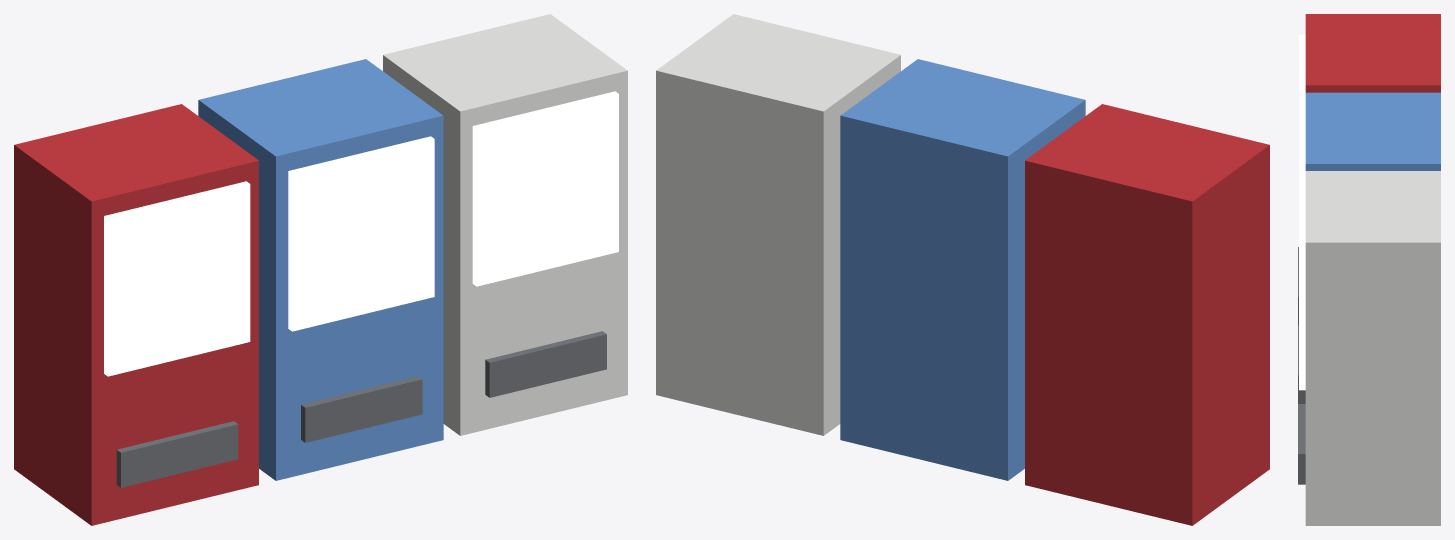
Rendered from vending_row.glb.
3 renders of one model, left to right at view 1: azimuth 30°, elevation 25°; view 2: azimuth 150°, elevation 25°; view 3: azimuth 270°, elevation 25°, orthographic. The views are drawn at different scales.
Parts seen in each view (by area): view 1: vending_row; view 2: vending_row; view 3: vending_row.
Boxes of the visible parts, <box> form: vending_row: <box>14,14,627,525</box>; vending_row: <box>656,14,1269,525</box>; vending_row: <box>1298,14,1440,525</box>.
Size of the model in its own units: 3.2 by 1.85 by 0.845.
